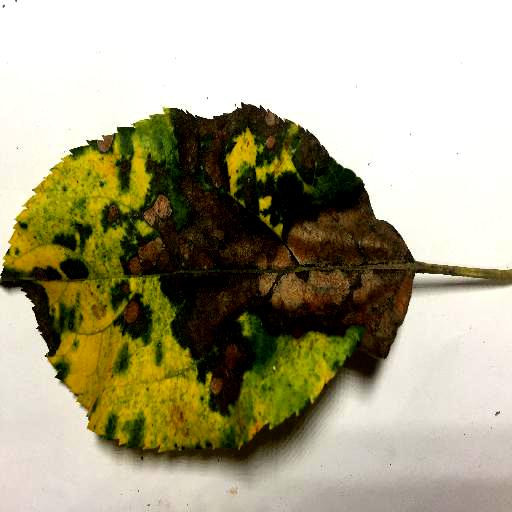Brown_Spot: (143, 98, 416, 440), (121, 299, 156, 343), (130, 240, 165, 276), (144, 184, 172, 221), (89, 132, 117, 154), (100, 198, 120, 225)
